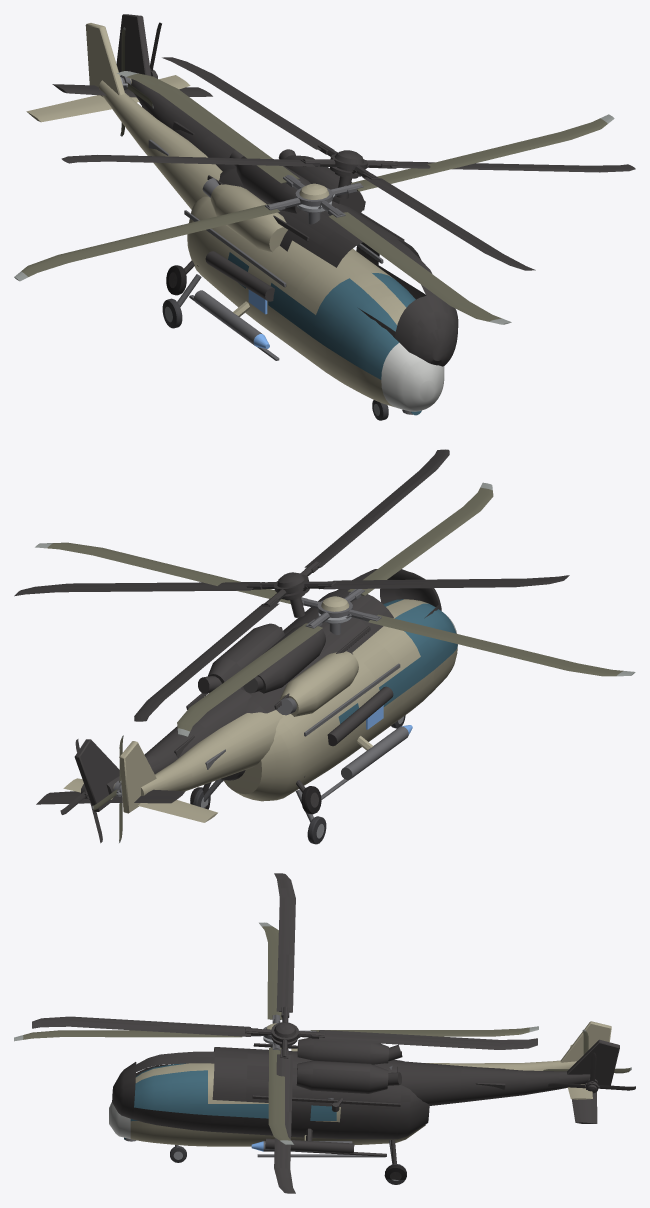
Rendered from navalHelicopter__super_lynx_mk99a.glb.
The picture shows the model from 3 angles, top to bottom: view 1: azimuth 30°, elevation 25°; view 2: azimuth 150°, elevation 25°; view 3: azimuth 270°, elevation 25°; orthographic projection. The views are drawn at different scales.
Visible parts, largest first — view 1: Fuselage_Mesh, Wreck, Rotor_Main_Mesh, Engines_Mesh, Naval_Mission_Kit_Mesh, Landing_Gear_Mesh; view 2: Wreck, Fuselage_Mesh, Rotor_Main_Mesh, Engines_Mesh, Naval_Mission_Kit_Mesh, Landing_Gear_Mesh; view 3: Wreck, Fuselage_Mesh, Rotor_Main_Mesh.
Boxes of the visible parts, x1,y1,x2,y2 form: Fuselage_Mesh: [26, 23, 444, 415]; Wreck: [52, 14, 635, 366]; Rotor_Main_Mesh: [14, 71, 614, 324]; Engines_Mesh: [202, 178, 287, 252]; Naval_Mission_Kit_Mesh: [194, 290, 269, 348]; Landing_Gear_Mesh: [162, 274, 388, 420]; Wreck: [14, 449, 569, 843]; Fuselage_Mesh: [63, 599, 457, 822]; Rotor_Main_Mesh: [35, 482, 635, 736]; Engines_Mesh: [240, 651, 358, 716]; Naval_Mission_Kit_Mesh: [341, 725, 412, 779]; Landing_Gear_Mesh: [192, 715, 405, 844]; Wreck: [32, 873, 635, 1193]; Fuselage_Mesh: [109, 1021, 611, 1157]; Rotor_Main_Mesh: [14, 922, 538, 1144].
Size of what is drawn, in the model's own units: 13.23 by 5.37 by 15.17.
